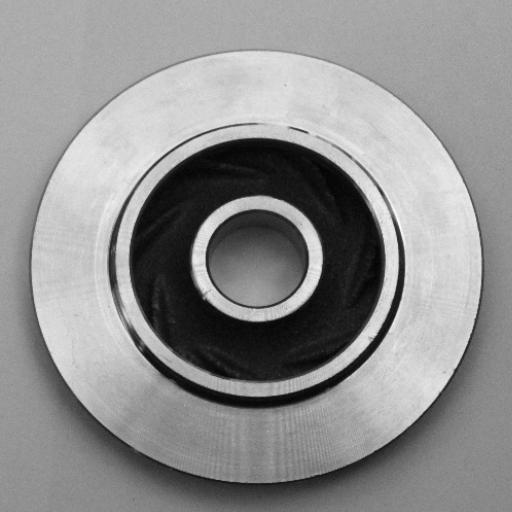scratch: (248, 106, 305, 135)
unpolished_casting: (28, 49, 485, 490)
